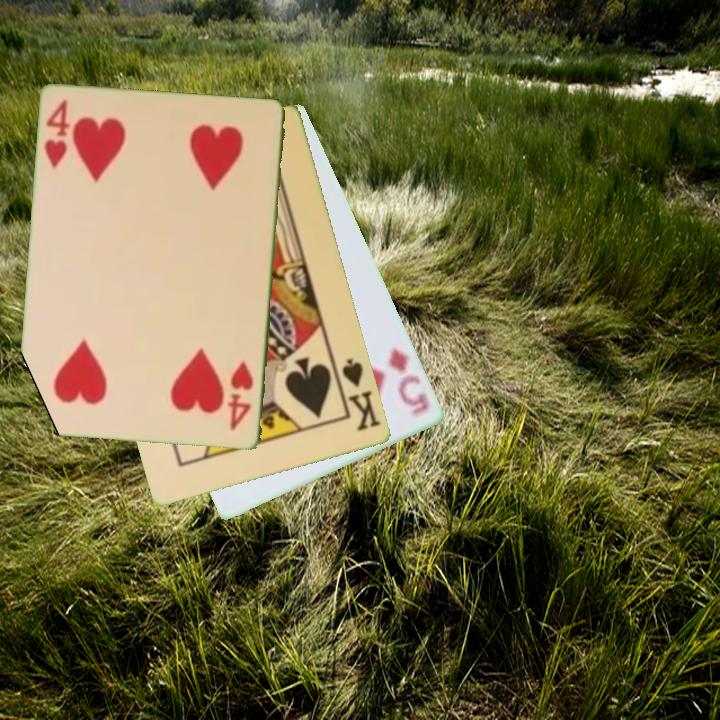4h: (41, 96, 73, 171), (227, 358, 257, 434)
5d: (386, 344, 433, 419)
Ks: (332, 355, 384, 434)
